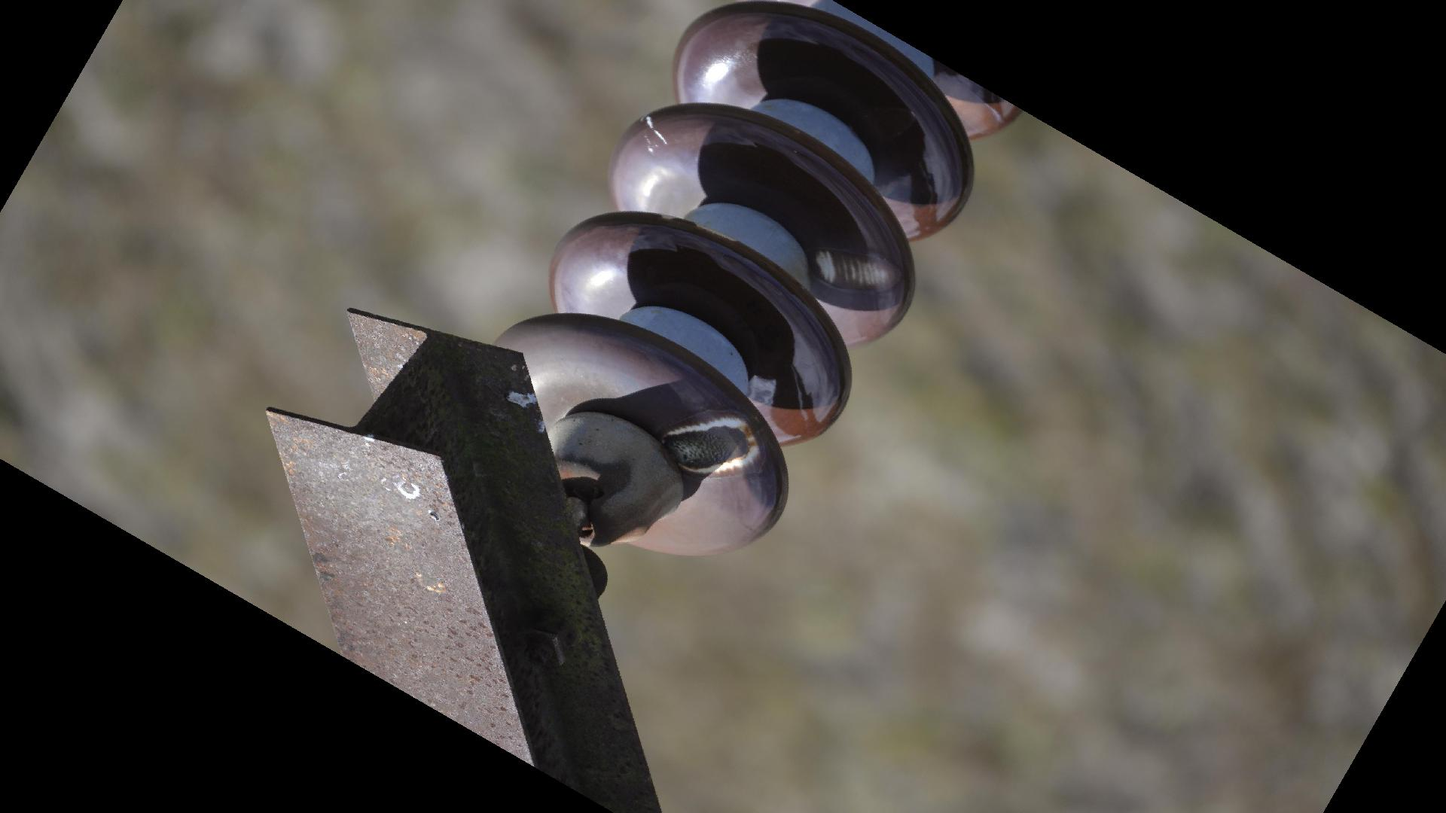insulator: (490, 1, 1030, 566)
insulator_flashover: (659, 412, 761, 480), (804, 240, 906, 300)
